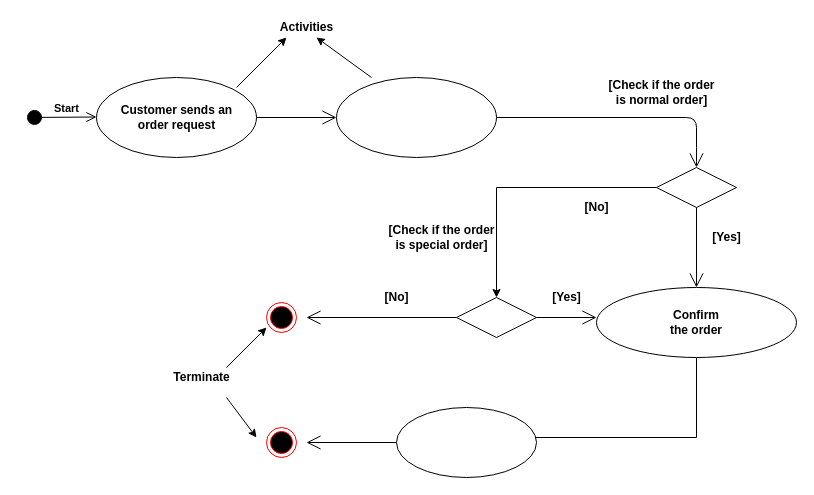
Image size: 814x495. Some labels were removed from this diagram. Here are the shapes that lost their labels. From the top down, the box of each, then its label:
(336, 76, 496, 158): Order request system confirm the receipt of the order
(396, 406, 536, 478): Dispatch the order
